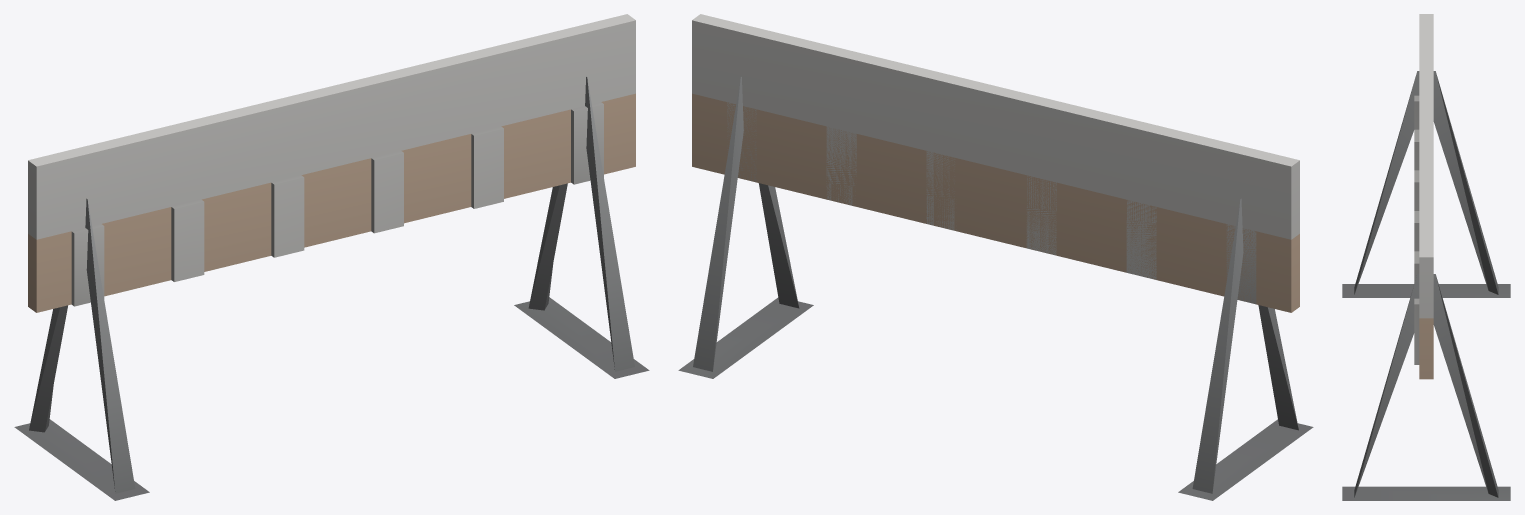
The model's file is barricade.lod1.glb.
3 renders of one model, left to right at view 1: azimuth 30°, elevation 25°; view 2: azimuth 150°, elevation 25°; view 3: azimuth 270°, elevation 25°, orthographic. The views are drawn at different scales.
Size of the model in its own units: 2.4 by 1.19 by 0.7.
